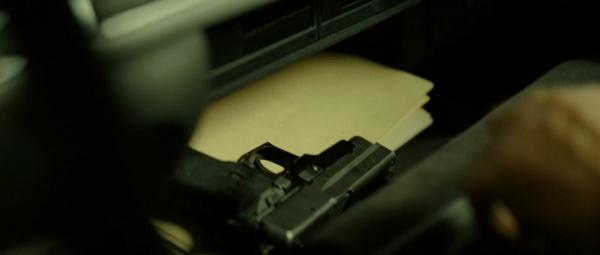Gun: (171, 139, 396, 244)
